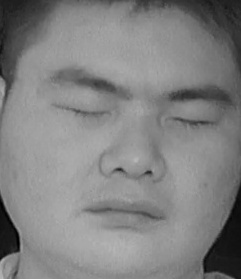blink: (57, 93, 114, 128), (166, 104, 220, 136)
mouth: (77, 187, 168, 234)
